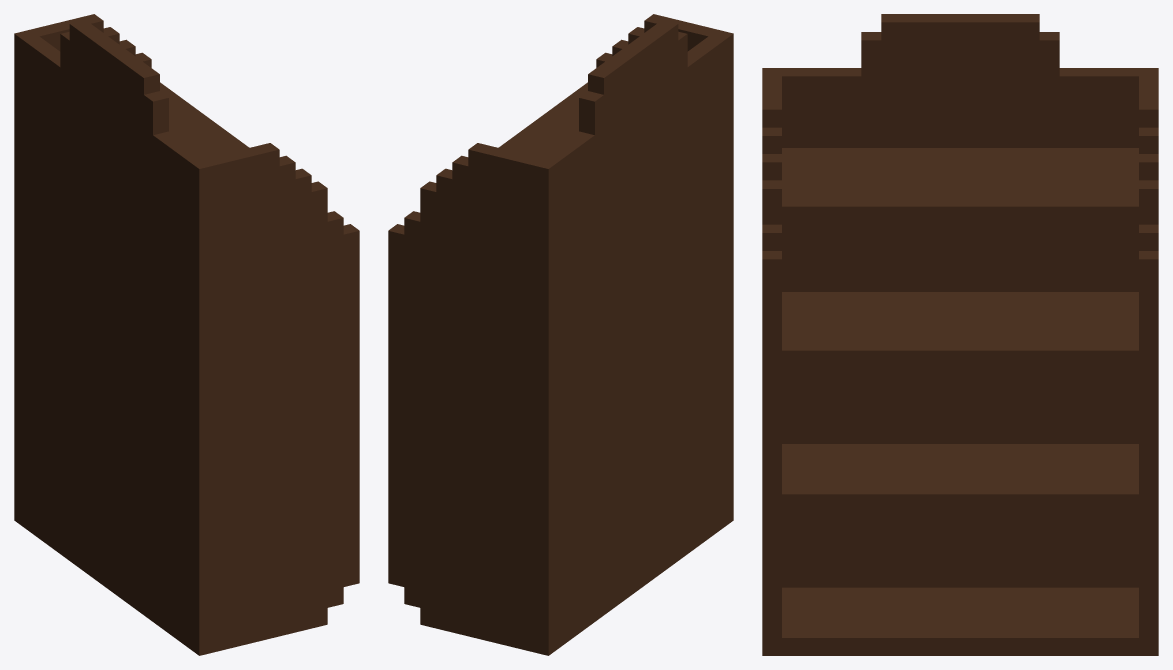
The model's file is Kshkaf.obj.
3 renders of one model, left to right at view 1: azimuth 30°, elevation 25°; view 2: azimuth 150°, elevation 25°; view 3: azimuth 270°, elevation 25°, orthographic. The views are drawn at different scales.
Parts seen in each view (by area): view 1: Kshkaf; view 2: Kshkaf; view 3: Kshkaf.
Part boxes in pixels (x1,y1,x2,y2): Kshkaf: [14, 14, 359, 655]; Kshkaf: [388, 14, 733, 655]; Kshkaf: [762, 14, 1158, 655].
Bounding box in the file's own units: 1 × 3.2 × 2.
1 material, 1 textured.
